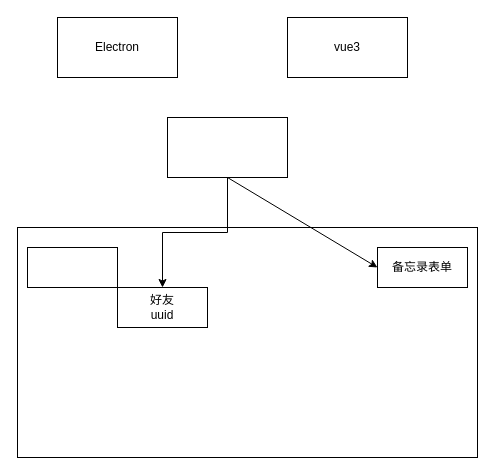
The diagram is 495 pixels wide and 475 high, and some of its shapes have lost their labels. Each missing label, with the box of its shape:
后端: (166, 116, 288, 178)
用户: (26, 246, 118, 288)
